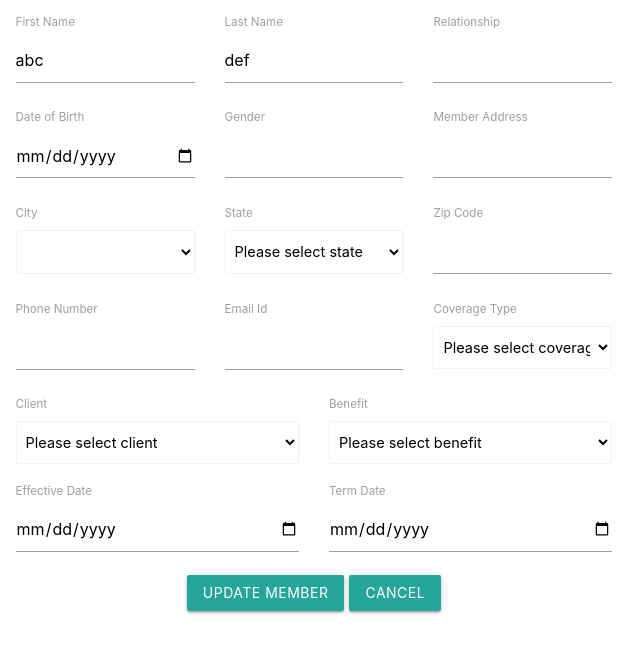
Scenario: AddUpdateMember › should throw required error when relationship field is empty
Clear the field with id "relationship" at (523, 60), box [433,38,612,83]
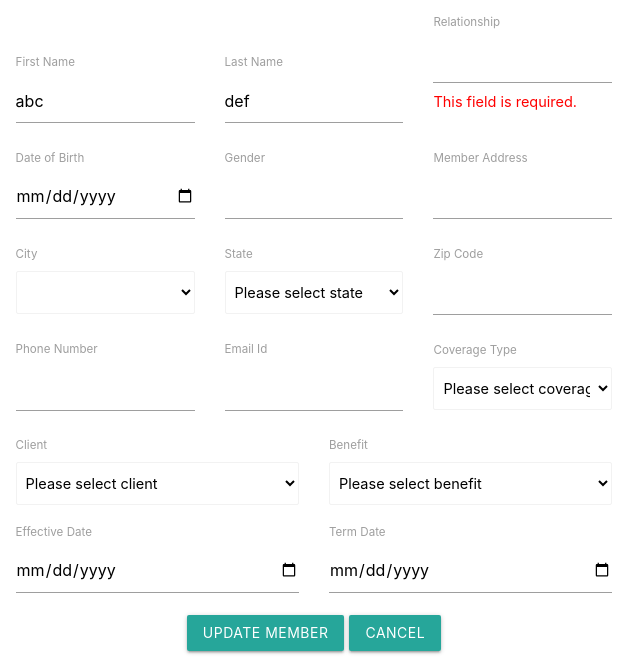
Check: the text "This field is required." is shown, box [433,93,577,110]
